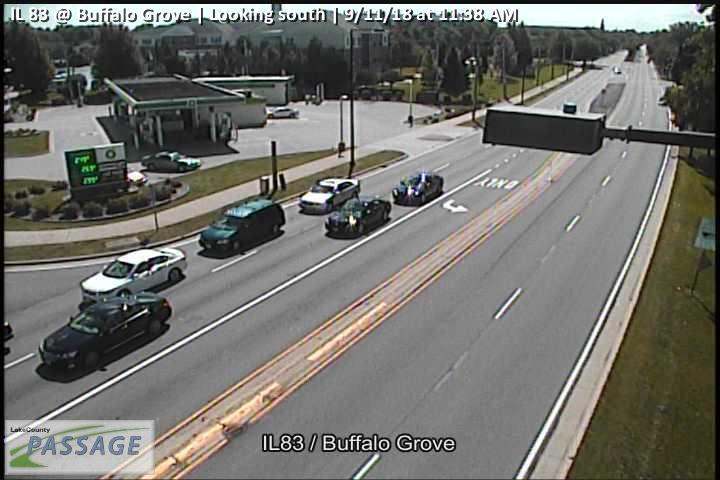SUV: (197, 197, 286, 260)
Sedan: (37, 289, 172, 374), (78, 246, 189, 305), (324, 197, 391, 238), (299, 177, 362, 212), (392, 171, 445, 206), (140, 149, 201, 173), (267, 105, 300, 119)
